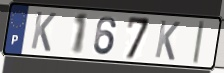1: (71, 12, 90, 56)
6: (93, 16, 118, 57)
7: (125, 15, 151, 61)
I: (191, 20, 206, 66)
K: (153, 18, 182, 63), (29, 10, 58, 54)
